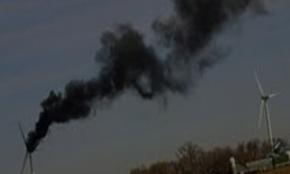faulty: (11, 110, 46, 161)
